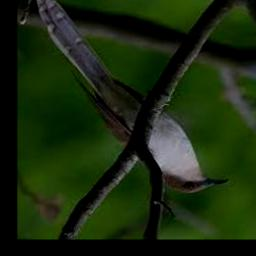Cuckoo: (37, 0, 230, 194)
